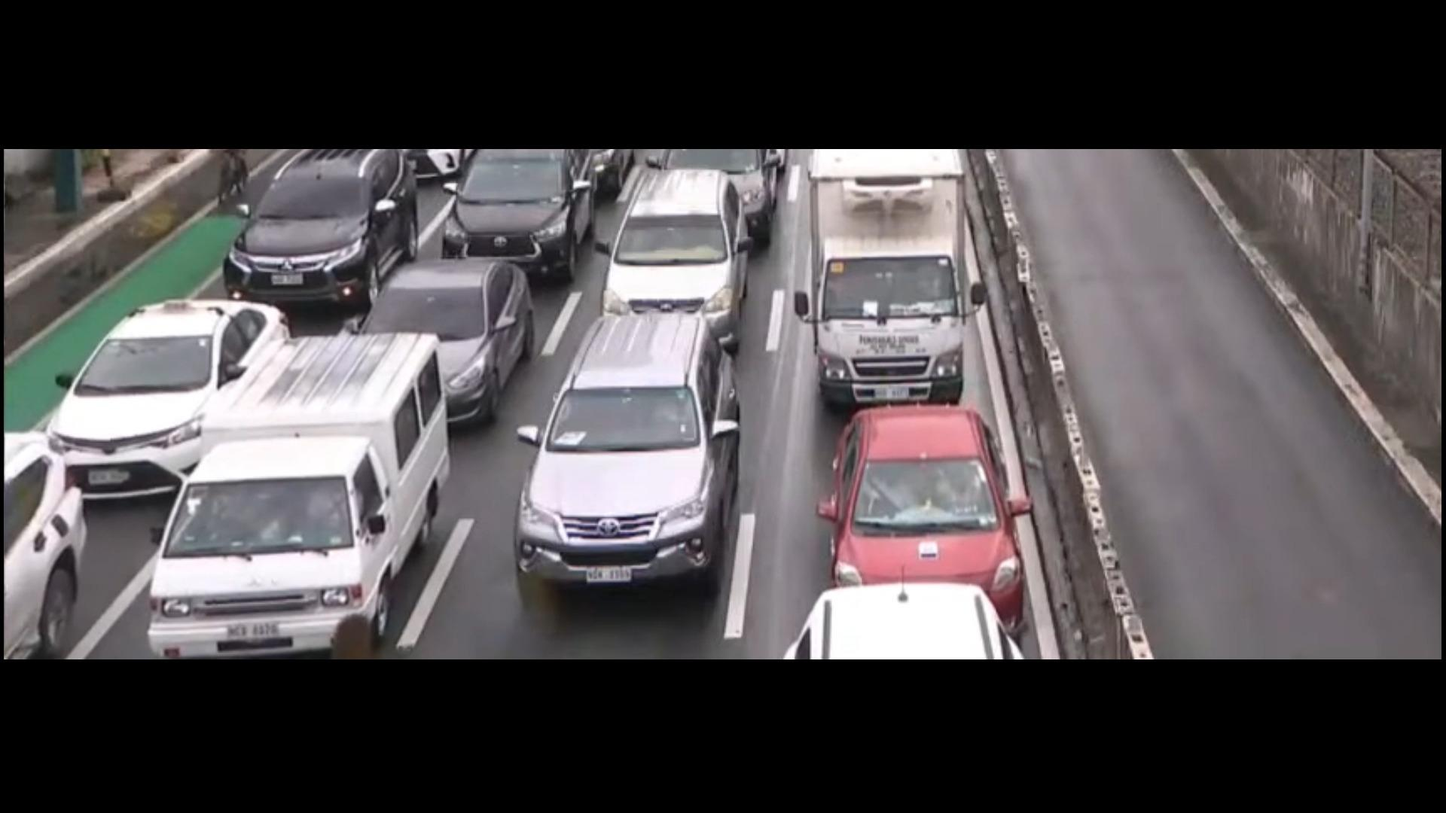Multicab: (147, 334, 453, 657)
SUV: (513, 314, 744, 598), (223, 150, 421, 310), (601, 170, 752, 348), (439, 151, 598, 277)
Sedan: (46, 295, 292, 502), (828, 404, 1022, 633), (348, 258, 536, 426)
Truck: (806, 150, 965, 406)
